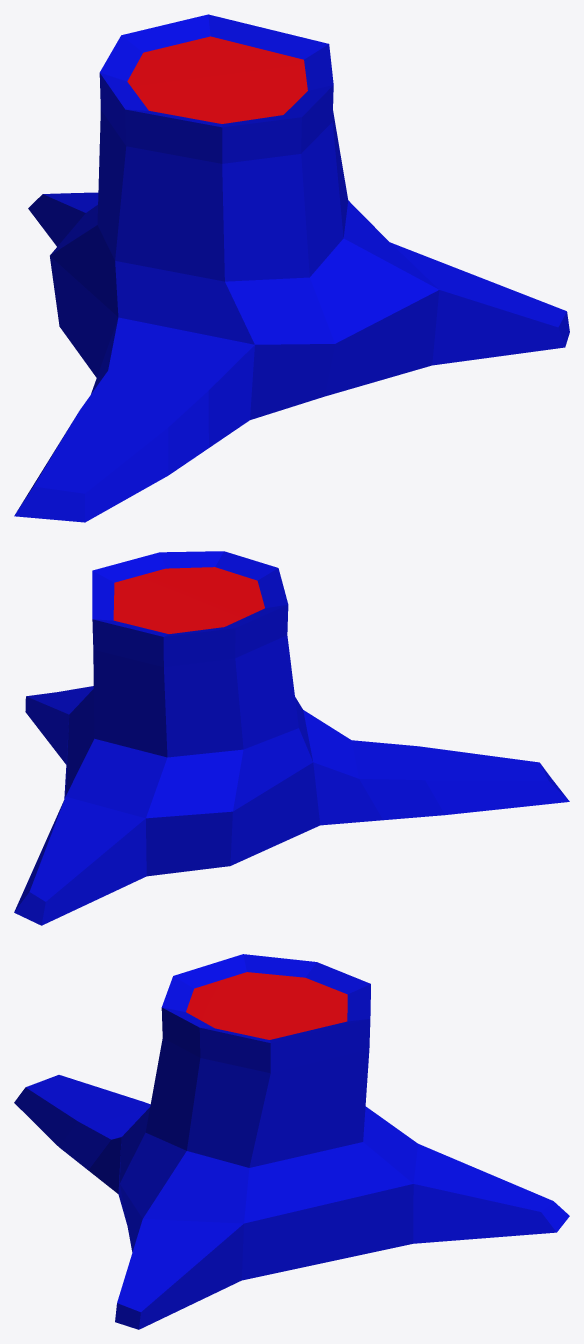
File: SM_TreeStump4.fbx
The picture shows the model from 3 angles, top to bottom: view 1: azimuth 30°, elevation 25°; view 2: azimuth 150°, elevation 25°; view 3: azimuth 270°, elevation 25°; orthographic projection. The views are drawn at different scales.
Visible parts, largest first — view 1: SM_TreeStump4; view 2: SM_TreeStump4; view 3: SM_TreeStump4.
Part boxes in pixels (x1,y1,x2,y2): SM_TreeStump4: (14, 14, 569, 522); SM_TreeStump4: (14, 551, 569, 925); SM_TreeStump4: (14, 954, 569, 1329).
Size of the model in its own units: 157 by 66.74 by 151.
